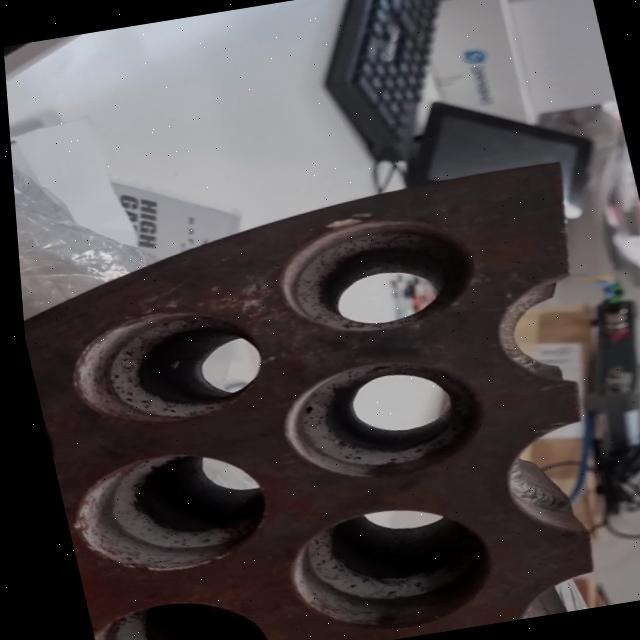Hole: (264, 346, 491, 494), (268, 494, 496, 640), (264, 202, 484, 346), (53, 442, 272, 584), (54, 298, 269, 438), (76, 587, 260, 640)
